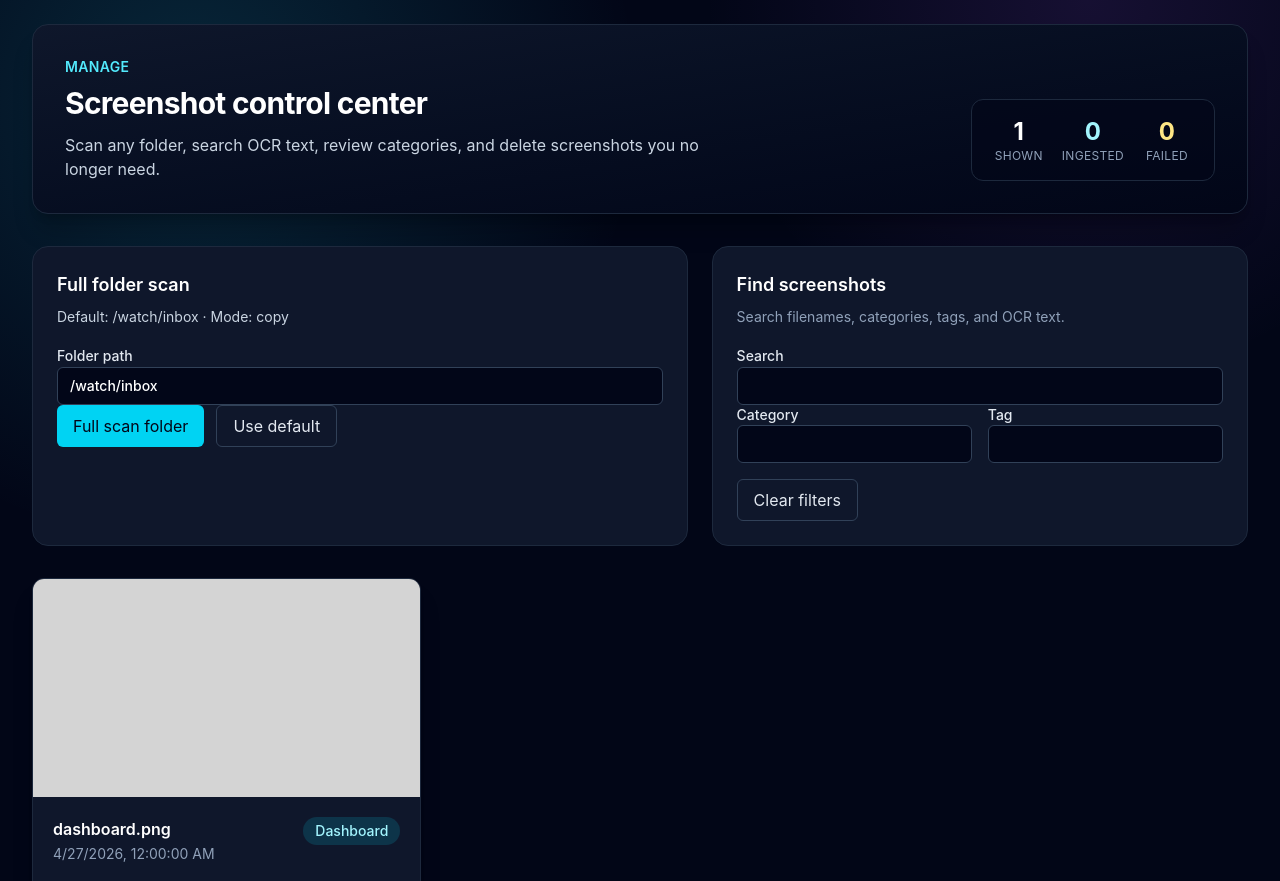
LibraryPage › shows scan error alert
Expected: the heading "dashboard.png" is shown, [53,819,171,839]
Click the button "Full scan folder": coordinates (131, 426) [57,405,204,447]
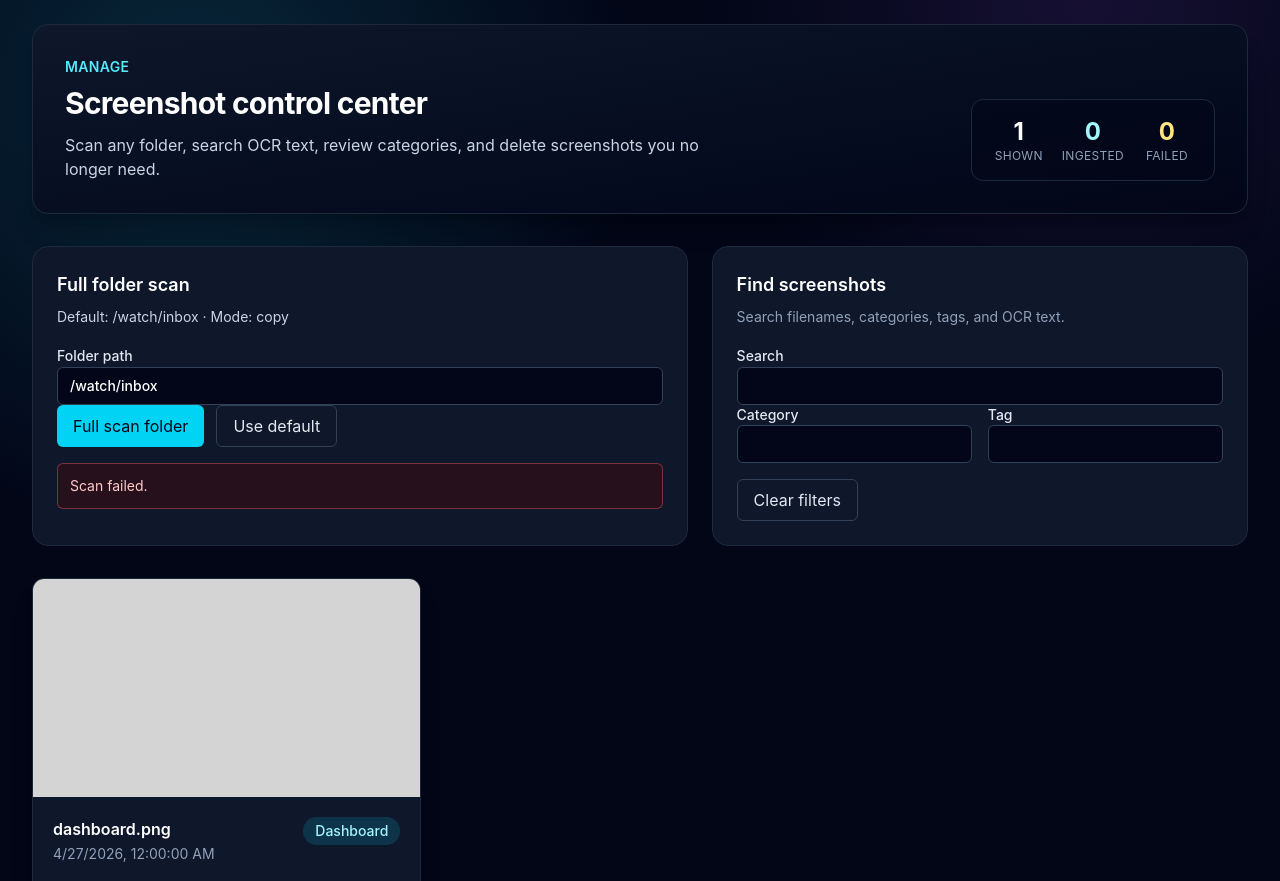
Now the message reads "Scan failed.", box [70,477,148,494]
